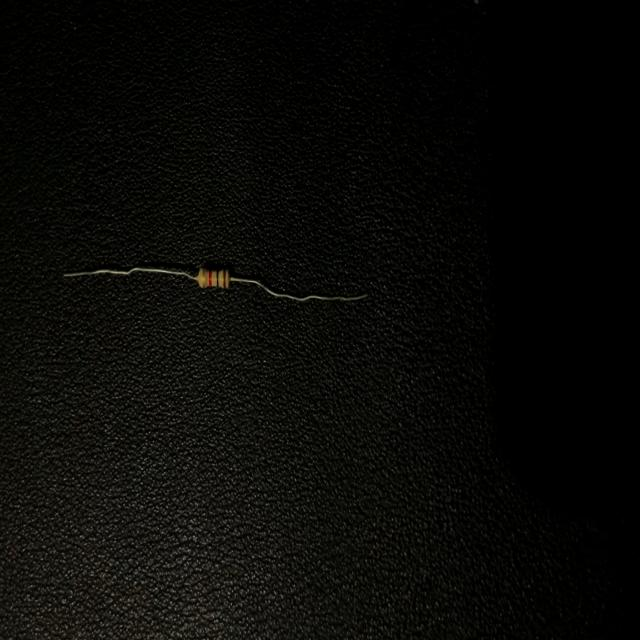resistor: (59, 254, 378, 318)
